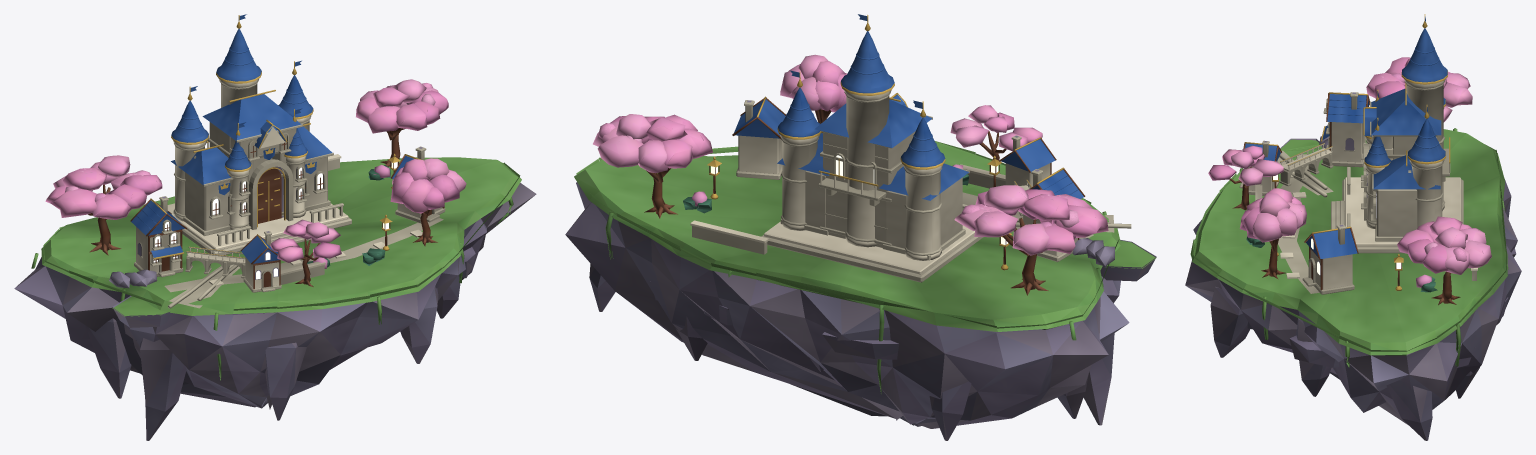
Rendered from royal-island-left-background-v1-balanced.glb.
3 renders of one model, left to right at view 1: azimuth 30°, elevation 25°; view 2: azimuth 150°, elevation 25°; view 3: azimuth 270°, elevation 25°, orthographic. The views are drawn at different scales.
Parts seen in each view (by area): view 1: royal-island-left-background-v1; view 2: royal-island-left-background-v1; view 3: royal-island-left-background-v1.
Part boxes in pixels (x1=…): royal-island-left-background-v1: x1=14, y1=14, x2=536, y2=440; royal-island-left-background-v1: x1=565, y1=14, x2=1156, y2=440; royal-island-left-background-v1: x1=1185, y1=14, x2=1521, y2=440.
Bounding box in the file's own units: 20.58 × 14.89 × 12.02.
Materials: 10 (10 with a texture image).
